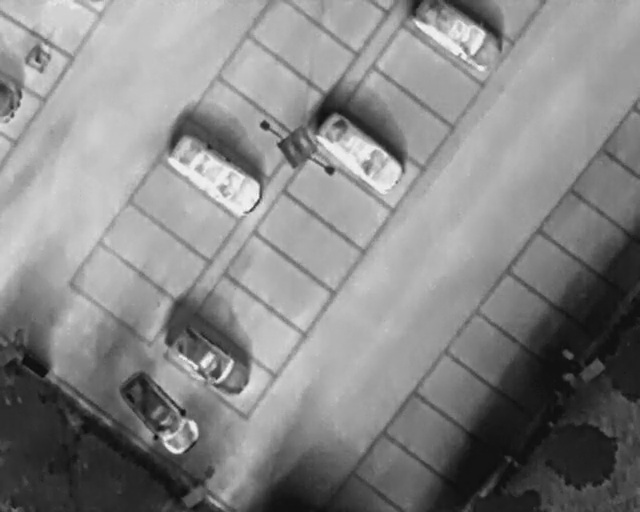Car: (162, 126, 271, 225), (113, 363, 210, 461), (163, 318, 259, 402)
